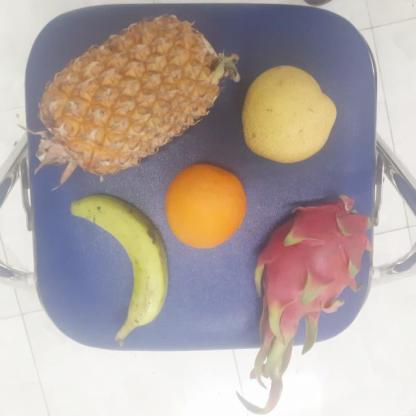banana: (68, 191, 178, 331)
orange: (166, 165, 248, 251)
pear: (237, 63, 336, 167)
pineapple: (40, 9, 218, 182)
pitaya: (248, 196, 373, 324)
